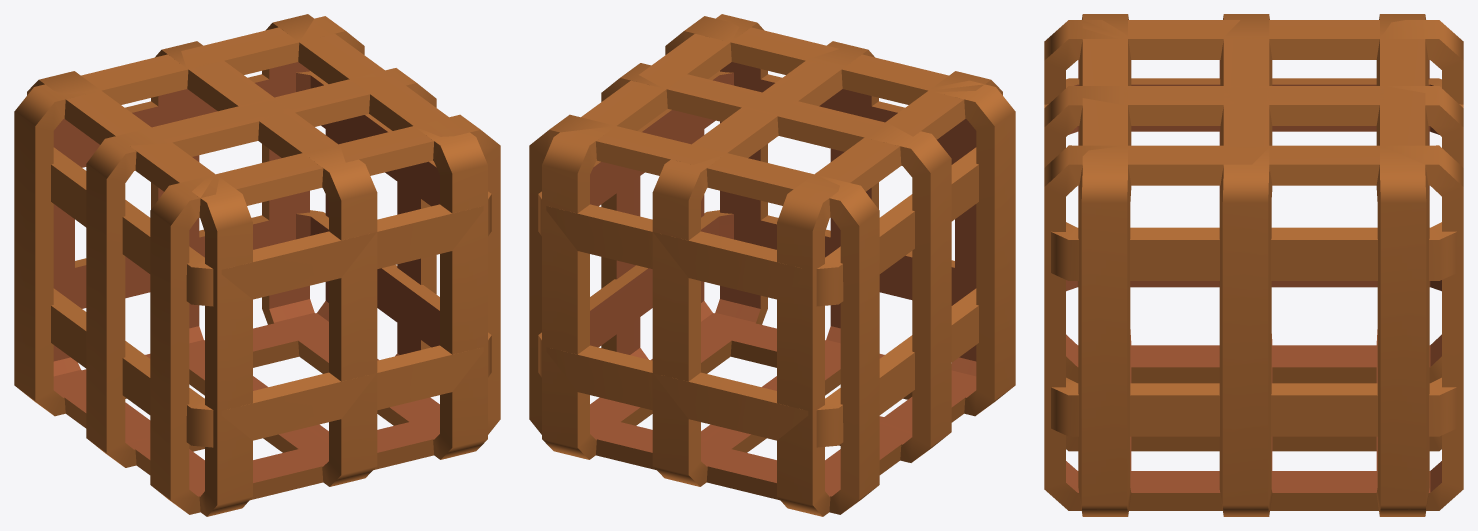
Rendered from Obstacle_Cage_Ver2.fbx.
The picture shows the model from 3 angles, left to right: view 1: azimuth 30°, elevation 25°; view 2: azimuth 150°, elevation 25°; view 3: azimuth 270°, elevation 25°; orthographic projection. The views are drawn at different scales.
Visible parts, largest first — view 1: Obstacle_Cage_Ver2; view 2: Obstacle_Cage_Ver2; view 3: Obstacle_Cage_Ver2.
Boxes of the visible parts, x1=… form: Obstacle_Cage_Ver2: x1=14, y1=14, x2=500, y2=516; Obstacle_Cage_Ver2: x1=529, y1=14, x2=1015, y2=516; Obstacle_Cage_Ver2: x1=1044, y1=14, x2=1463, y2=516.
Bounding box in the file's own units: 89.23 × 81.28 × 89.23.
